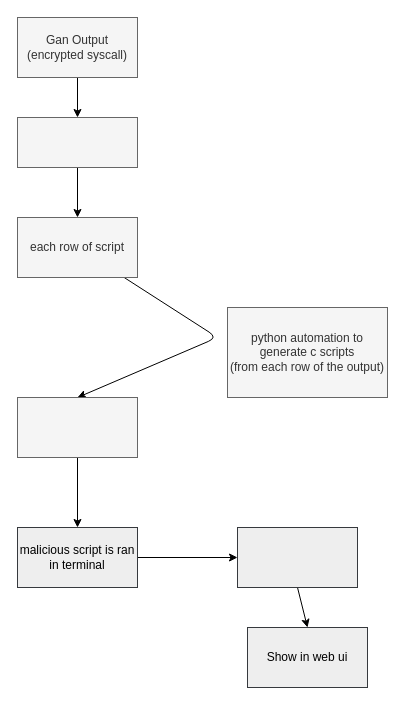
Some shapes in this 405 by 705 pixel diagram are drawn without their labels. Each missing label, with the centre of its shape:
"decryption" belongs at [77,142].
"generation of malicious script" belongs at [77,427].
"log generated by ossec is captured" belongs at [297,557].
